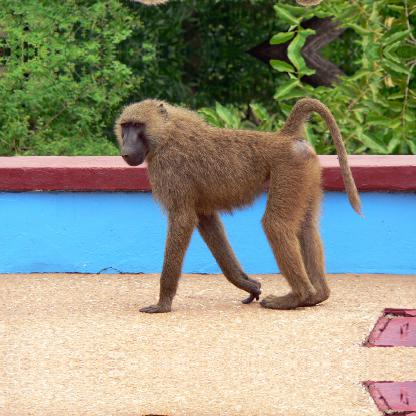Monkey: (114, 99, 364, 313)
